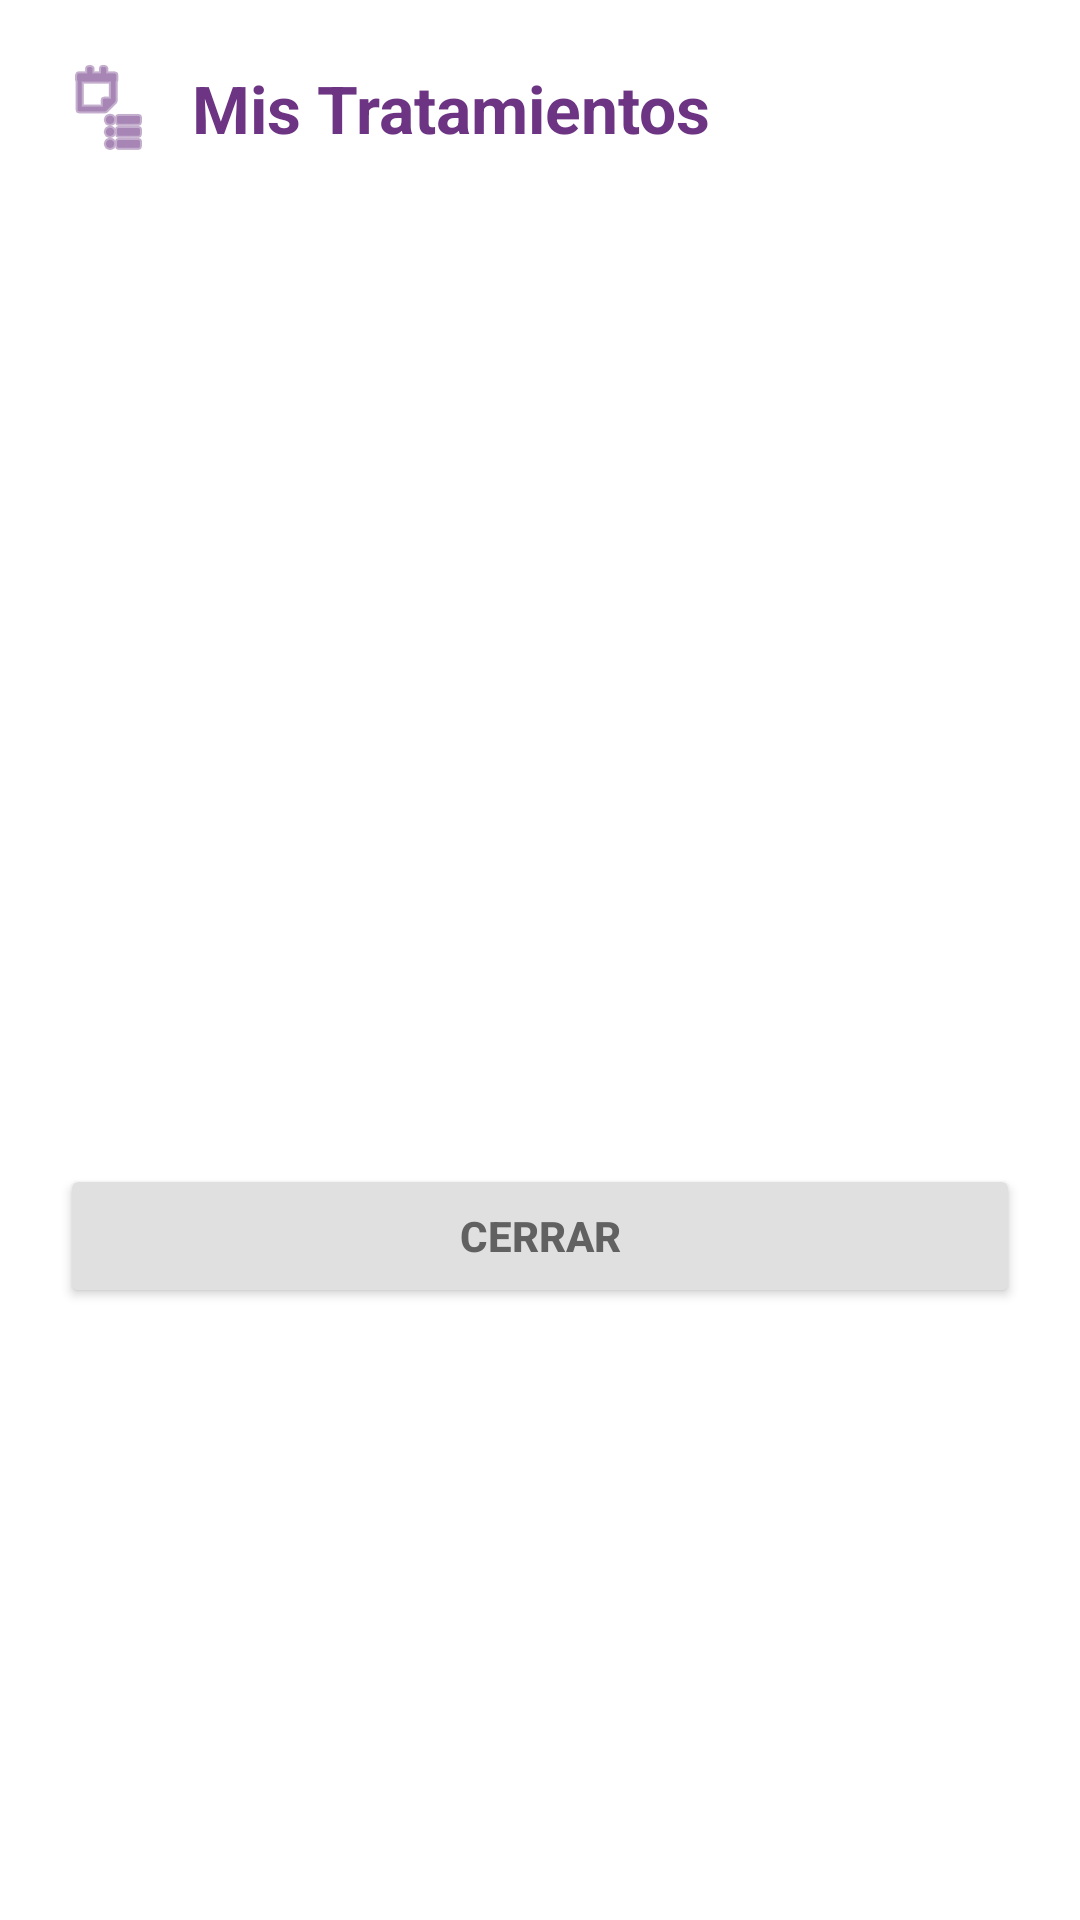

Locate icon controls on the screen. Image size 1080px x 1920px, boxes as (x1, y1, x2, y2).
agenda: (75, 65, 142, 150)
